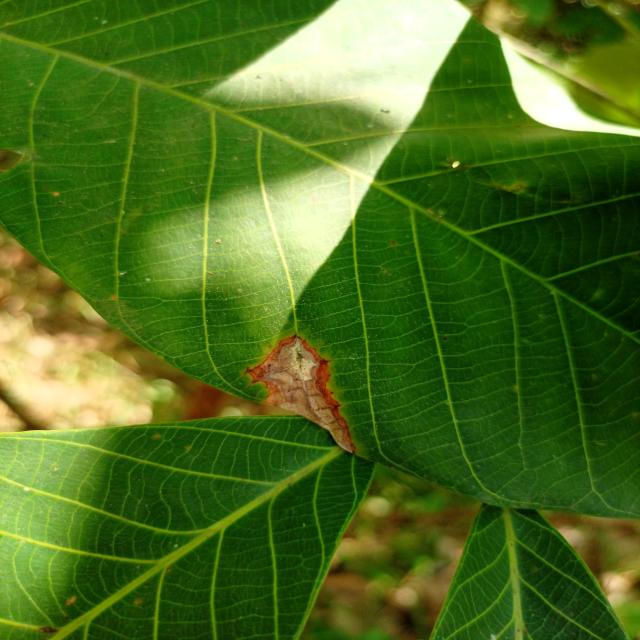Leaf-Blight: (256, 337, 354, 452)
